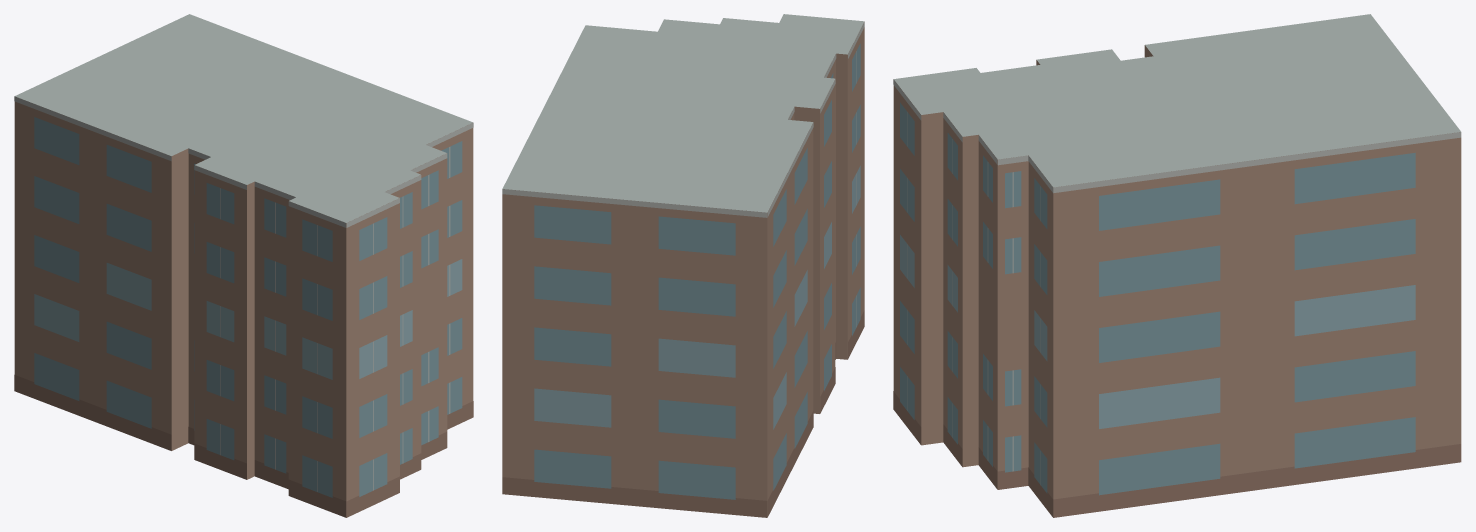
Rendered from survey-upis-33016334.glb.
The picture shows the model from 3 angles, left to right: view 1: azimuth 30°, elevation 25°; view 2: azimuth 150°, elevation 25°; view 3: azimuth 270°, elevation 25°; orthographic projection. The views are drawn at different scales.
Visible parts, largest first — view 1: survey-upis-33016334.tmp; view 2: survey-upis-33016334.tmp; view 3: survey-upis-33016334.tmp.
Part boxes in pixels (x1,y1,x2,y2): survey-upis-33016334.tmp: [14, 14, 473, 517]; survey-upis-33016334.tmp: [502, 14, 864, 517]; survey-upis-33016334.tmp: [893, 14, 1461, 517].
Size of the model in its own units: 15.89 by 14.1 by 21.97.
